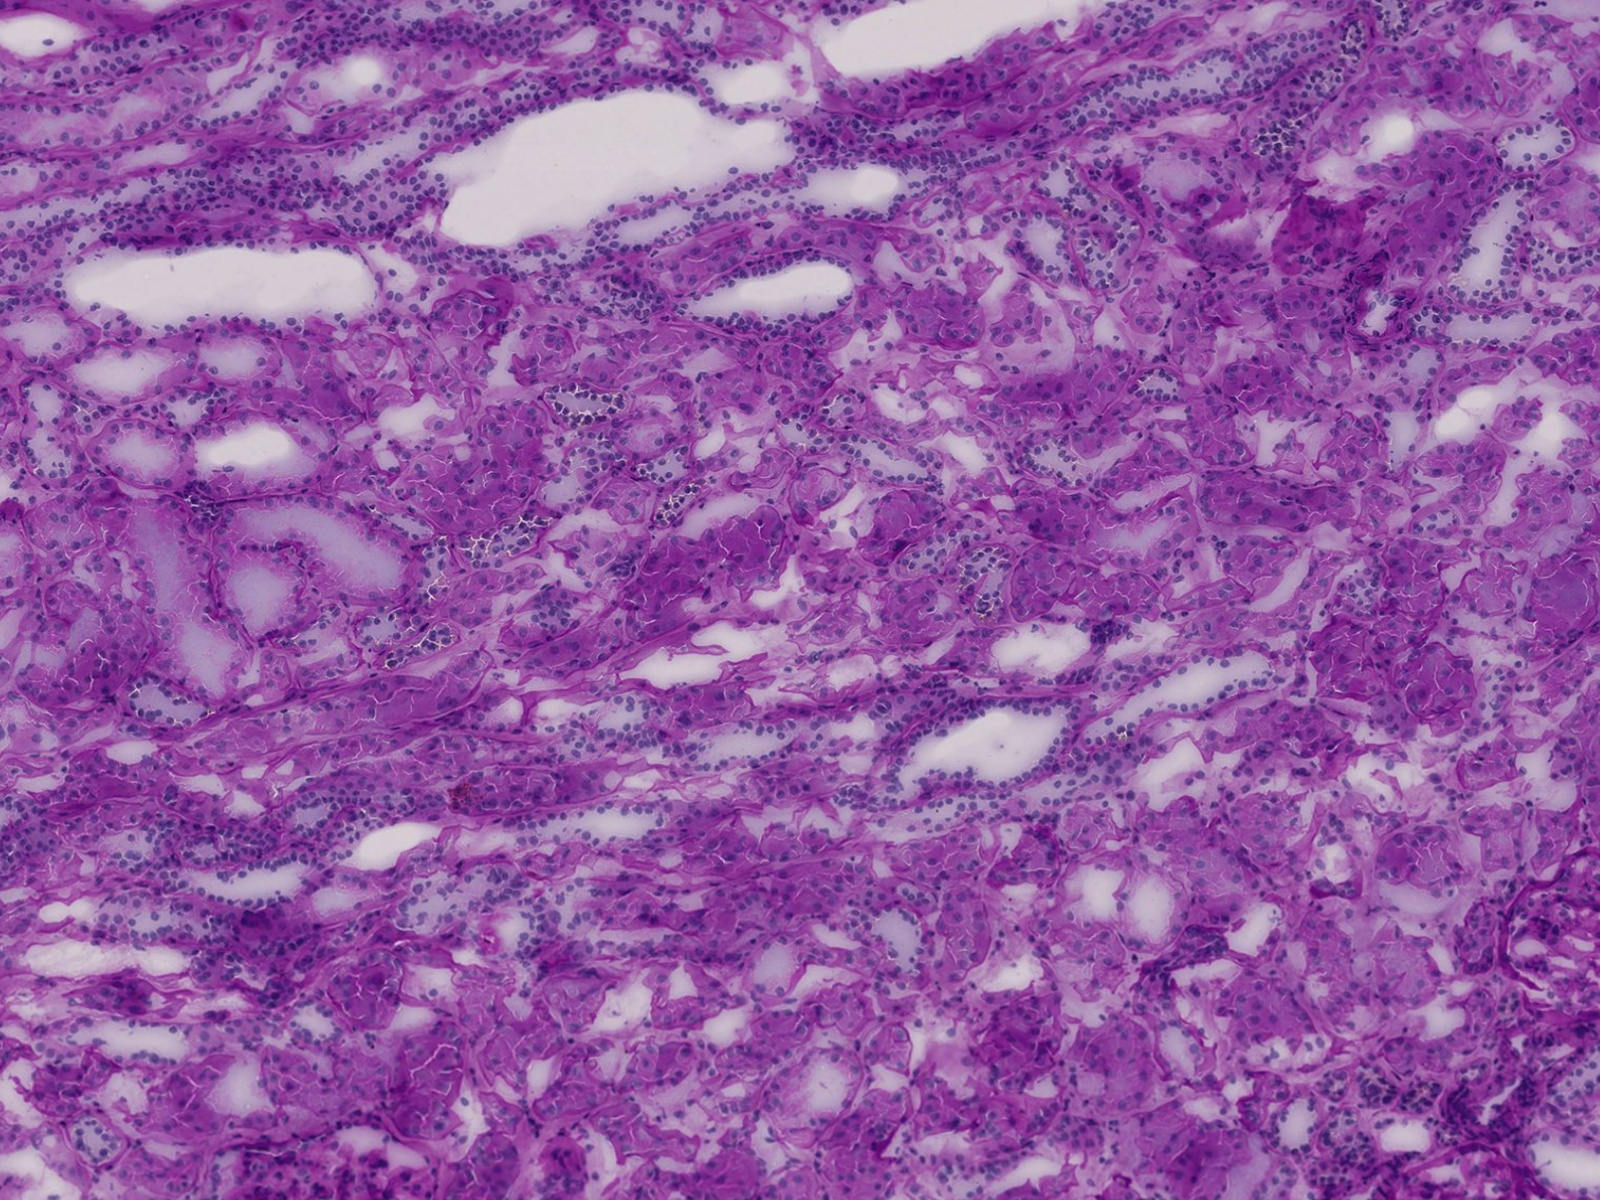Glomeruli: (1492, 852, 1595, 1017)
